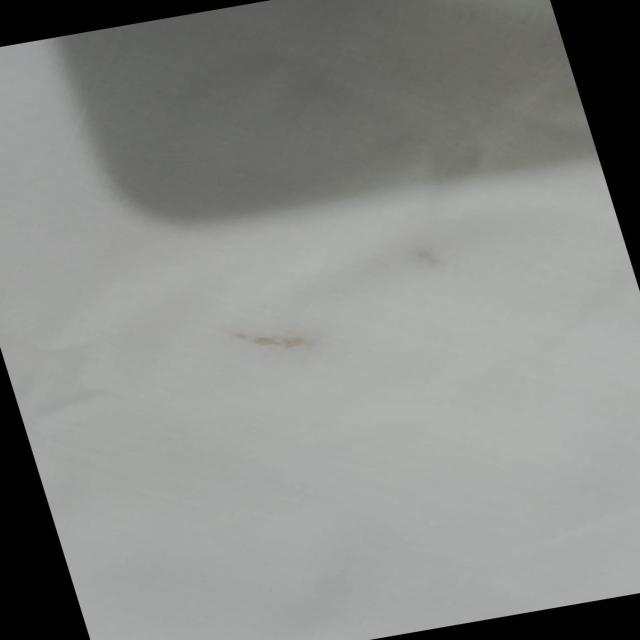stain: (214, 310, 336, 378), (384, 222, 466, 283)
